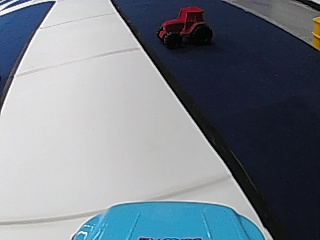granary: (311, 17, 320, 40)
tractor: (154, 4, 213, 49)
